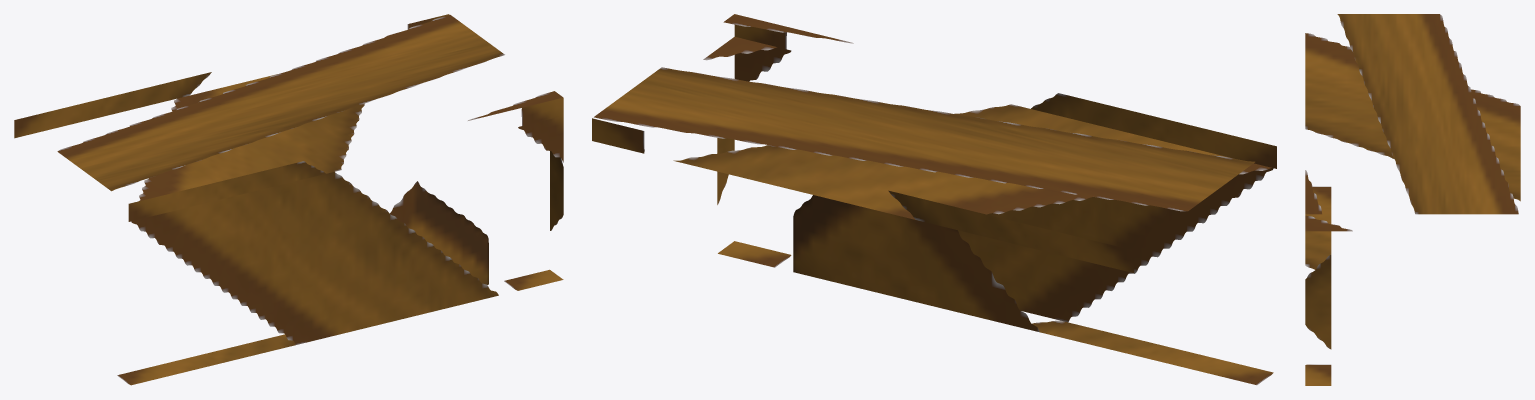
File: pz_wall_shelf_lightwood_backboard.obj
The picture shows the model from 3 angles, left to right: view 1: azimuth 30°, elevation 25°; view 2: azimuth 150°, elevation 25°; view 3: azimuth 270°, elevation 25°; orthographic projection. The views are drawn at different scales.
Size of the model in its own units: 1 by 0.4 by 0.455.
1 material, 1 textured.
